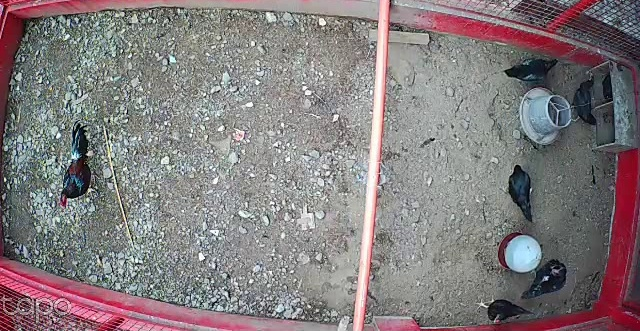Chicken: (519, 256, 570, 302), (475, 293, 537, 327), (505, 161, 538, 223), (566, 67, 600, 126), (504, 58, 563, 82)
Drinker: (498, 232, 543, 271)
Feeder: (520, 85, 570, 145)
Rooster: (57, 123, 100, 210)
